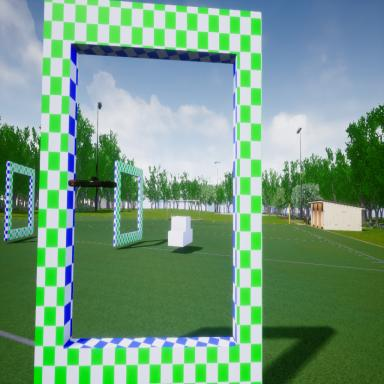gate: (32, 0, 262, 384), (112, 156, 144, 254), (3, 156, 34, 242)
